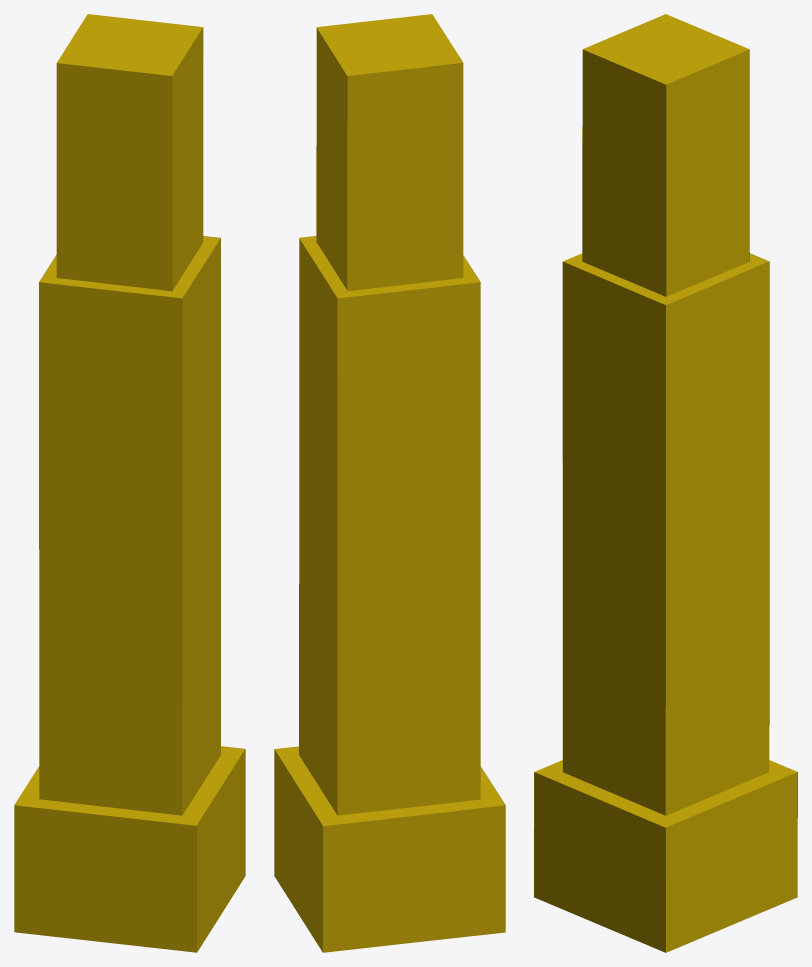
File: original-4.obj
3 views of the same model, side by side, from view 1: azimuth 30°, elevation 25°; view 2: azimuth 150°, elevation 25°; view 3: azimuth 270°, elevation 25° (orthographic).
Parts seen in each view (by area): view 1: #ID34; view 2: #ID34; view 3: #ID34.
Part boxes in pixels (x1,y1,x2,y2): #ID34: (14, 14, 245, 952); #ID34: (274, 14, 505, 952); #ID34: (534, 14, 797, 952).
Size of the model in its own units: 0.1025 by 0.3632 by 0.1025.
